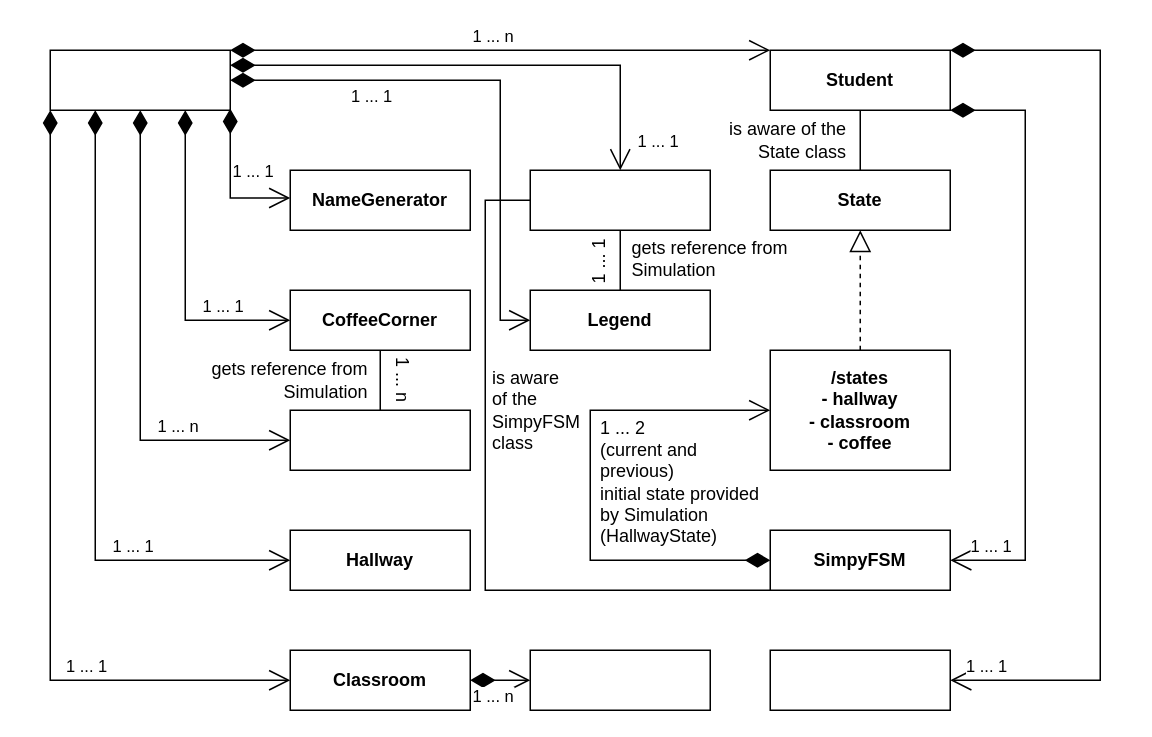
The diagram is 1152 pixels wide and 737 high, and some of its shapes have lost their labels. Each missing label, with the centre of its shape:
"CoffeeMachine" belongs at point (379, 439).
"Simulation" belongs at point (139, 79).
"Spritesheet" belongs at point (859, 679).
"Table" belongs at point (619, 679).
"UI" belongs at point (619, 199).
